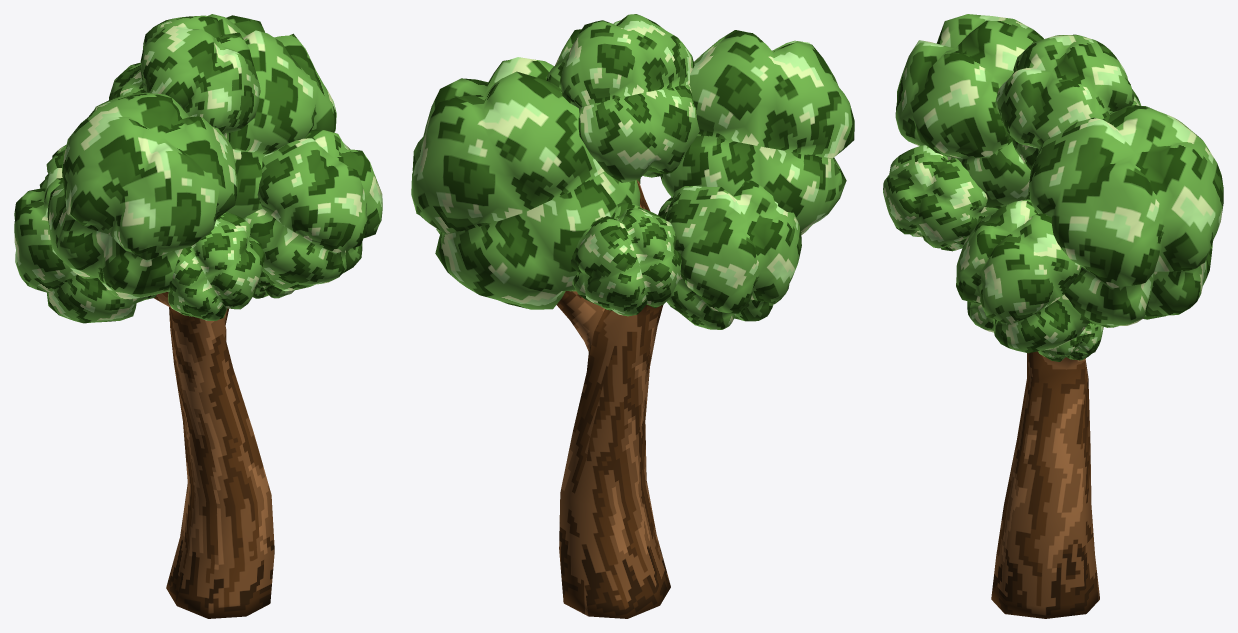
Rendered from Tree 1.fbx.
3 views of the same model, side by side, from view 1: azimuth 30°, elevation 25°; view 2: azimuth 150°, elevation 25°; view 3: azimuth 270°, elevation 25° (orthographic). The views are drawn at different scales.
Visible parts, largest first — view 1: Tree_Combined; view 2: Tree_Combined; view 3: Tree_Combined.
Boxes of the visible parts, x1,y1,x2,y2 form: Tree_Combined: (14, 14, 382, 618); Tree_Combined: (411, 14, 854, 618); Tree_Combined: (883, 14, 1223, 618).
Bounding box in the file's own units: 84.85 × 137 × 76.65.
1 material, 1 textured.
